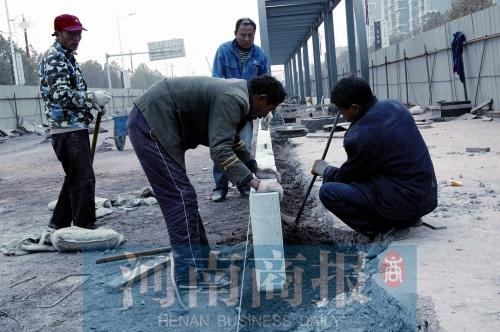none: (326, 74, 378, 121), (245, 71, 288, 121), (230, 17, 258, 50)
red: (49, 12, 86, 50)
